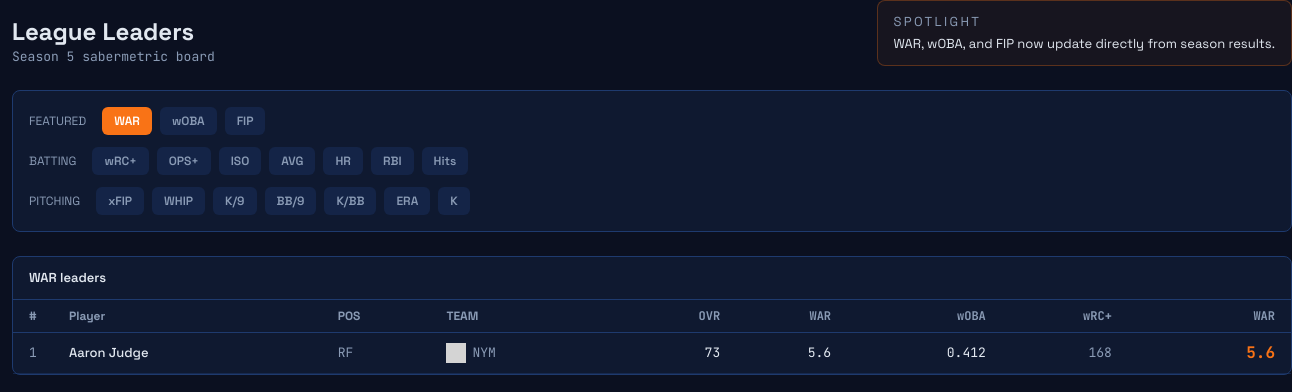
Test: LeadersPage › renders advanced leaderboards and switches between WAR and FIP boards
The width and height of the screenshot is (1292, 392).
Click the button "FIP" at (245, 121), box [225,107,266,135]
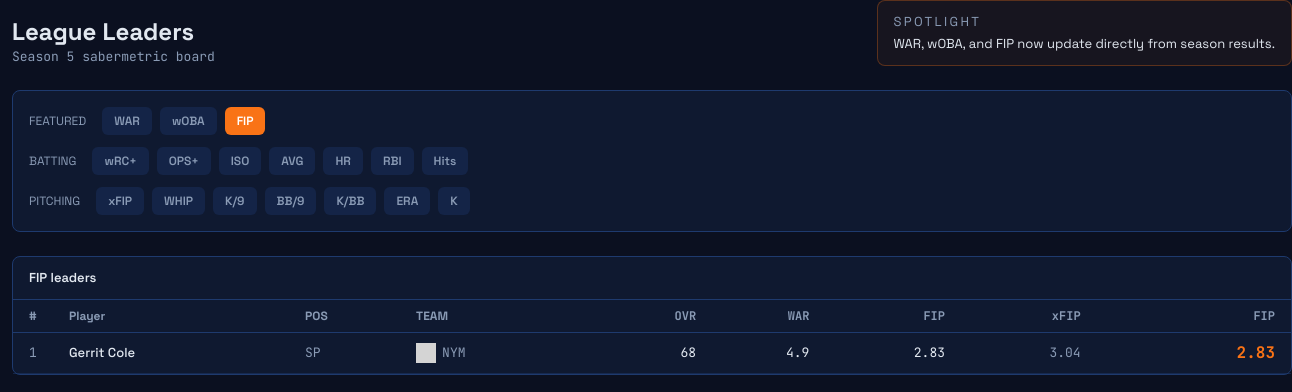
Expected: the text "xFIP" is shown, [96,187,144,215]
Expected: the text "Gerrit Cole" is shown, [69,344,135,361]
Expected: the text "2.83" is shown, [817,332,953,374]
